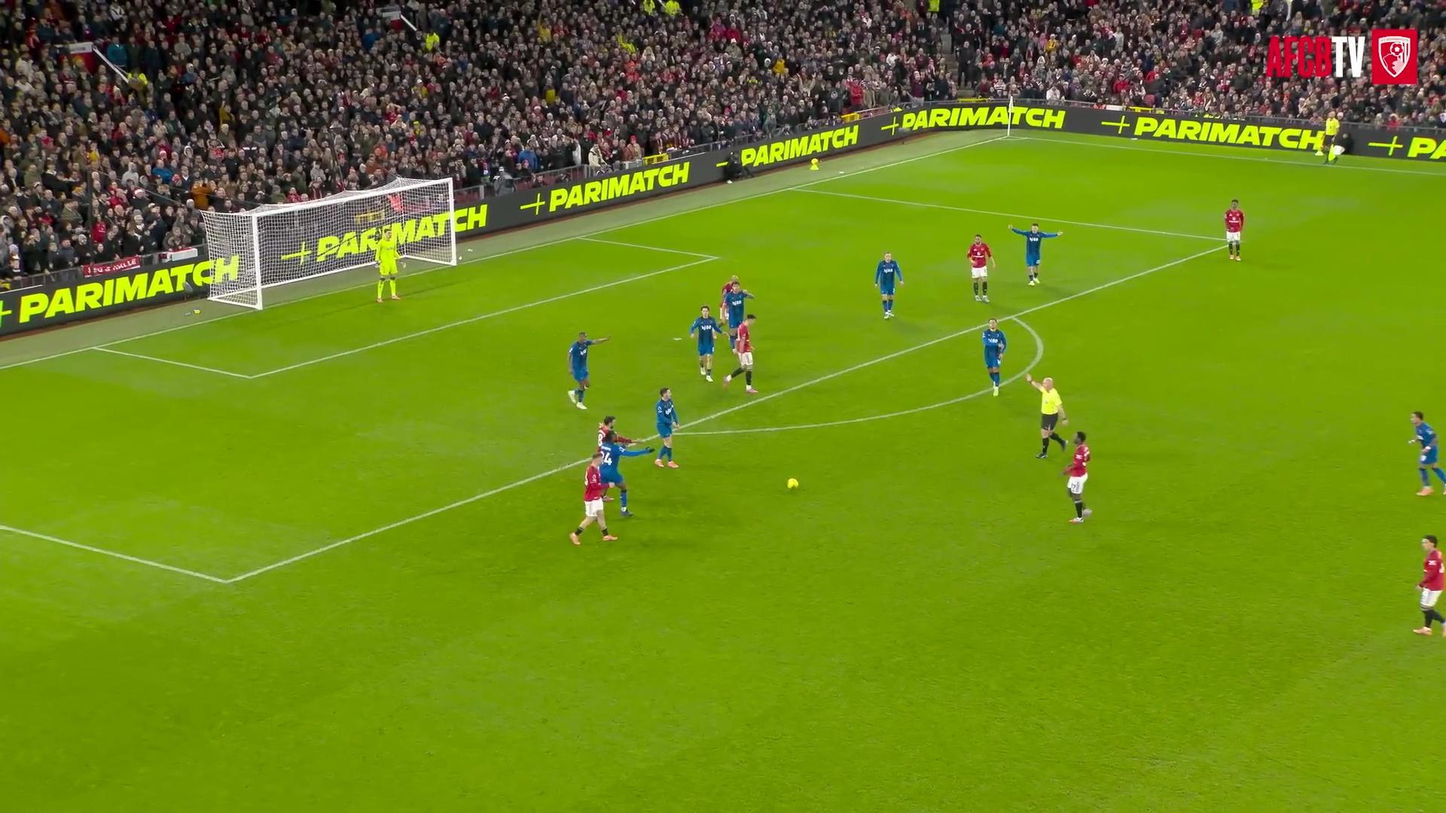football: (787, 478, 798, 489)
player: (597, 432, 654, 516), (569, 451, 616, 544), (1008, 223, 1062, 285), (568, 331, 609, 409), (1414, 534, 1445, 635), (1410, 411, 1445, 495), (723, 314, 757, 393), (1062, 433, 1091, 523), (689, 306, 719, 382), (724, 281, 754, 352), (654, 387, 680, 467), (374, 228, 400, 302), (982, 318, 1006, 395), (875, 252, 903, 318), (968, 234, 994, 302), (1224, 199, 1244, 260), (718, 275, 740, 315), (597, 416, 615, 449), (597, 416, 615, 446)
referee: (1026, 373, 1067, 458), (1316, 113, 1340, 163)
